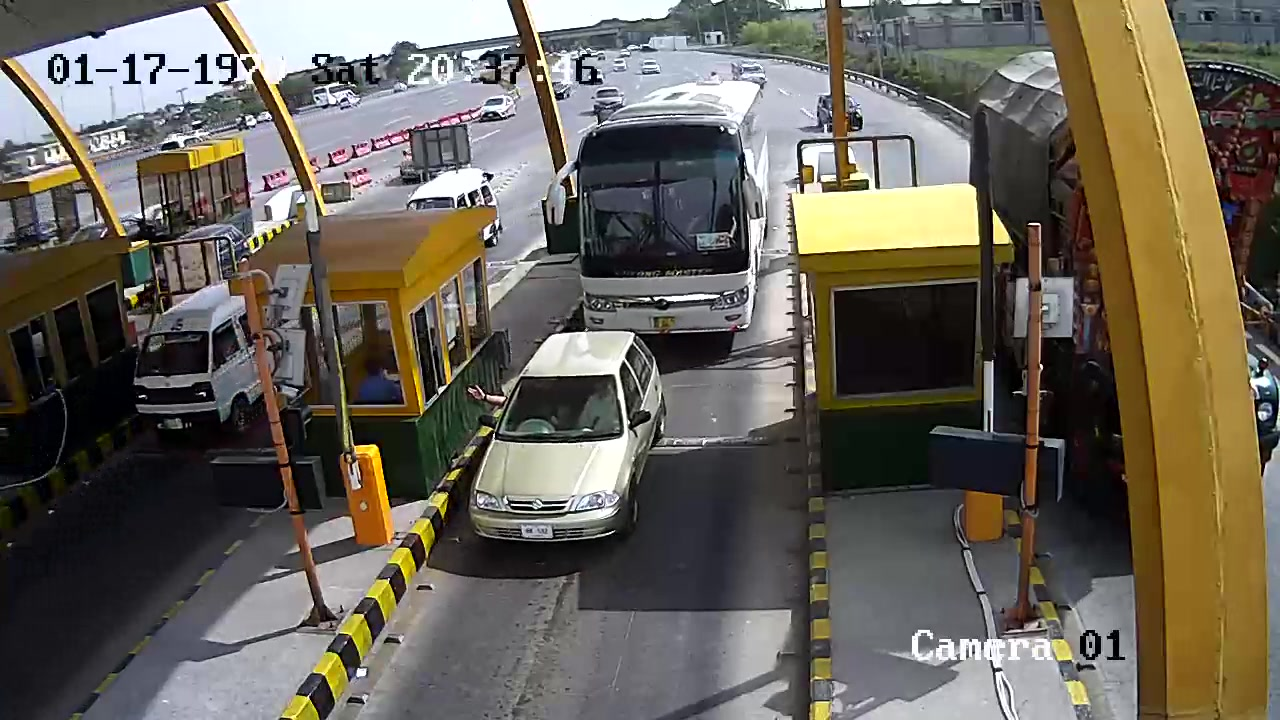F1: (463, 329, 676, 573)
F4: (543, 79, 778, 332)
